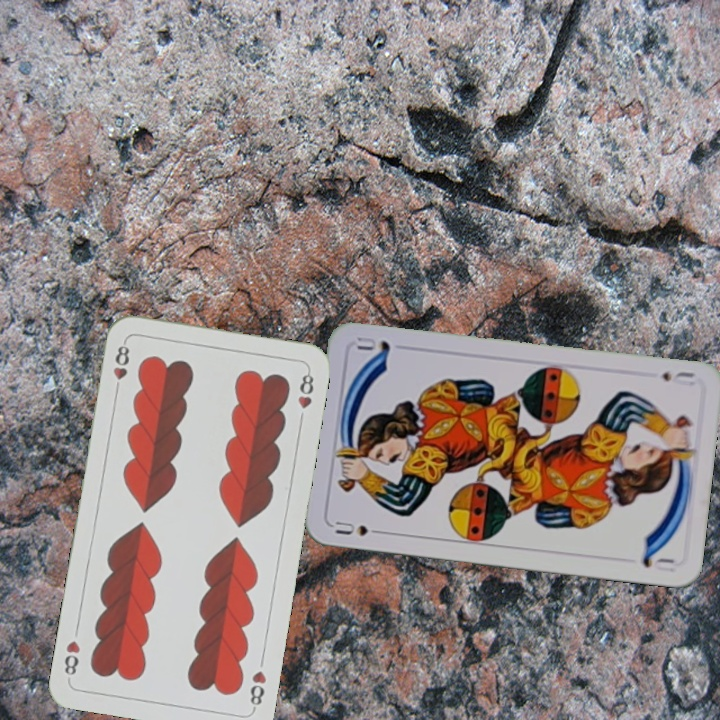H8: (109, 337, 132, 396), (246, 667, 269, 713)
SU: (331, 517, 388, 538), (657, 367, 698, 389)
